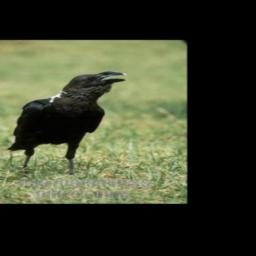Crow: (3, 69, 132, 178)
